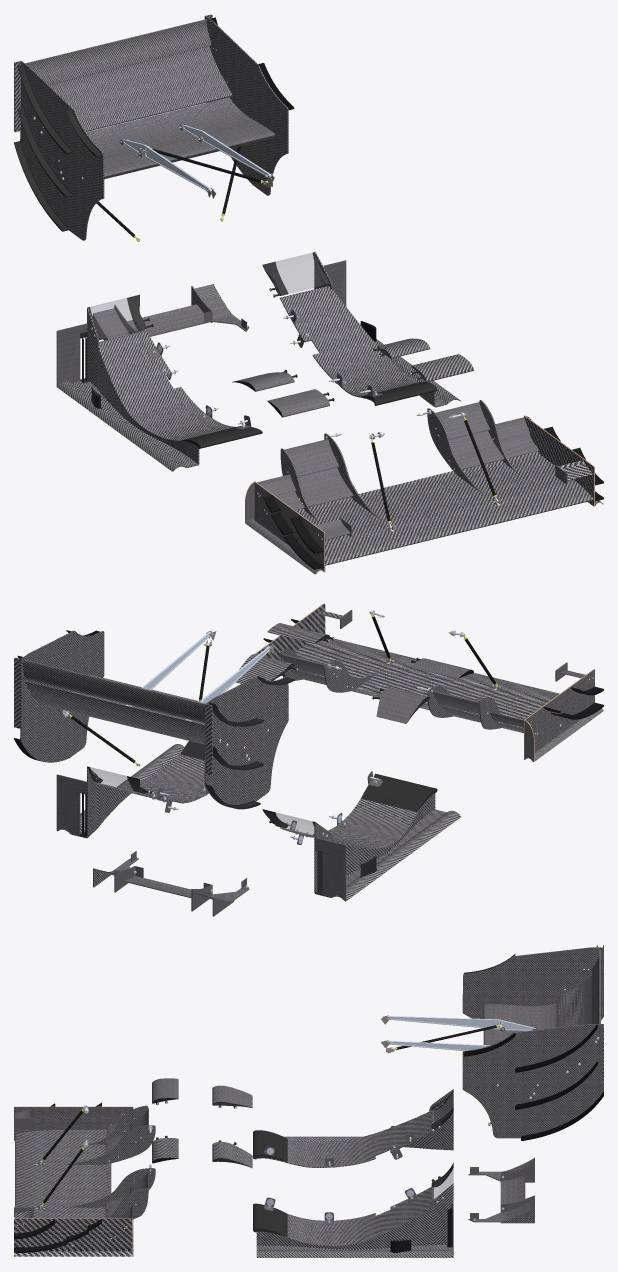
File: 27_Aerodynamics_Assembly_compressed.glb
The picture shows the model from 3 angles, top to bottom: view 1: azimuth 30°, elevation 25°; view 2: azimuth 150°, elevation 25°; view 3: azimuth 270°, elevation 25°; orthographic projection. The views are drawn at different scales.
Visible parts, largest first — view 1: 27 FW Main Element-2/27 FW Main Element Skin-1, 27 Side Diffuser Main Body (Right)-2, 27 RW 2nd Element Assembly-1/27 RW 2nd Element CF Outer Laye, 27 Side Diffuser Main Body (Left)-1, 27 RW Main Element Assembly-1/27 RW Main Element Outer CF La, 27 RW Endplate (Right)-11, 27 RW Endplate (Left)-10, 27 RW 3rd Element Assembly-1/27 RW 3rd Element CF Outer Laye, 27 RW Endplate Strakes (Right)-2, 27 Side Diffuser Main Element Skin (Left)-1, 27 Side Diffuser Main Element Skin (Right)-2, 27 FW Endplate-2/27 FW Endplate Skin (R)-2 (+14 smaller); view 2: 27 RW Endplate (Right)-11, 27 FW Main Element-2/27 FW Main Element Skin-1, 27 Side Diffuser Main Body (Right)-2, 27 RW Endplate (Left)-10, 27 Side Diffuser Main Body (Left)-1, 27 RW 3rd Element Assembly-1/27 RW 3rd Element CF Outer Laye, 27 RW 2nd Element Assembly-1/27 RW 2nd Element CF Outer Laye, 27 FW Endplate-2/27 FW Endplate Skin (R)-2, 27 Side Diffuser Gurney Flap (Right)-2, 27 Side Diffuser Gurney Flap (Left)-1, 27 BW 2nd Elemet Skin (Right)-3, 27 RW Endplate Strakes (Right)-2 (+21 smaller); view 3: 27 RW Endplate (Left)-10, 27 Side Diffuser Main Body (Left)-1, 27 FW Main Element-2/27 FW Main Element Skin-1, 27 RW Endplate (Right)-11, 27 Side Diffuser Main Body (Right)-2, 27 FW Endplate-2/27 FW Endplate Skin-1, 27 FW Endplate-2/27 FW Endplate Skin (R)-2, 27 RW Main Element Assembly-1/27 RW Main Element Outer CF La, 27 RW Endplate Strakes (Left)-1, 27 RW 2nd Element Assembly-1/27 RW 2nd Element CF Outer Laye, 27 FW Main Element-2/27 FW Midplate Inner (R)-2, 27 RW Top Mount Lat Rib Right-1 (+17 smaller).
Boxes of the visible parts, x1,y1,x2,y2 form: 27 FW Main Element-2/27 FW Main Element Skin-1: [295, 451, 593, 565]; 27 Side Diffuser Main Body (Right)-2: [57, 307, 235, 471]; 27 RW 2nd Element Assembly-1/27 RW 2nd Element CF Outer Laye: [49, 46, 232, 131]; 27 Side Diffuser Main Body (Left)-1: [280, 251, 460, 407]; 27 RW Main Element Assembly-1/27 RW Main Element Outer CF La: [86, 97, 275, 179]; 27 RW Endplate (Right)-11: [20, 60, 104, 240]; 27 RW Endplate (Left)-10: [204, 15, 288, 195]; 27 RW 3rd Element Assembly-1/27 RW 3rd Element CF Outer Laye: [25, 19, 211, 85]; 27 RW Endplate Strakes (Right)-2: [14, 64, 102, 231]; 27 Side Diffuser Main Element Skin (Left)-1: [263, 252, 329, 295]; 27 Side Diffuser Main Element Skin (Right)-2: [89, 295, 146, 339]; 27 FW Endplate-2/27 FW Endplate Skin (R)-2: [254, 481, 325, 571]; 27 RW Endplate (Right)-11: [204, 676, 288, 804]; 27 FW Main Element-2/27 FW Main Element Skin-1: [295, 638, 559, 733]; 27 Side Diffuser Main Body (Right)-2: [280, 793, 460, 901]; 27 RW Endplate (Left)-10: [20, 630, 104, 762]; 27 Side Diffuser Main Body (Left)-1: [57, 744, 208, 838]; 27 RW 3rd Element Assembly-1/27 RW 3rd Element CF Outer Laye: [23, 659, 204, 723]; 27 RW 2nd Element Assembly-1/27 RW 2nd Element CF Outer Laye: [25, 681, 204, 743]; 27 FW Endplate-2/27 FW Endplate Skin (R)-2: [524, 669, 594, 759]; 27 Side Diffuser Gurney Flap (Right)-2: [315, 837, 346, 901]; 27 Side Diffuser Gurney Flap (Left)-1: [56, 774, 86, 835]; 27 BW 2nd Elemet Skin (Right)-3: [376, 687, 428, 723]; 27 RW Endplate Strakes (Right)-2: [205, 676, 294, 809]; 27 RW Endplate (Left)-10: [462, 1024, 603, 1138]; 27 Side Diffuser Main Body (Left)-1: [256, 1183, 453, 1257]; 27 FW Main Element-2/27 FW Main Element Skin-1: [15, 1129, 111, 1218]; 27 RW Endplate (Right)-11: [462, 947, 603, 1020]; 27 Side Diffuser Main Body (Right)-2: [257, 1089, 453, 1167]; 27 FW Endplate-2/27 FW Endplate Skin-1: [14, 1219, 132, 1249]; 27 FW Endplate-2/27 FW Endplate Skin (R)-2: [14, 1107, 133, 1140]; 27 RW Main Element Assembly-1/27 RW Main Element Outer CF La: [483, 1003, 556, 1045]; 27 RW Endplate Strakes (Left)-1: [463, 1025, 603, 1140]; 27 RW 2nd Element Assembly-1/27 RW 2nd Element CF Outer Laye: [556, 975, 592, 1066]; 27 FW Main Element-2/27 FW Midplate Inner (R)-2: [36, 1125, 155, 1165]; 27 RW Top Mount Lat Rib Right-1: [387, 1016, 535, 1031].
Size of the model in its own units: 1.38 by 1.14 by 2.87.
Materials: 160 (68 with a texture image).
